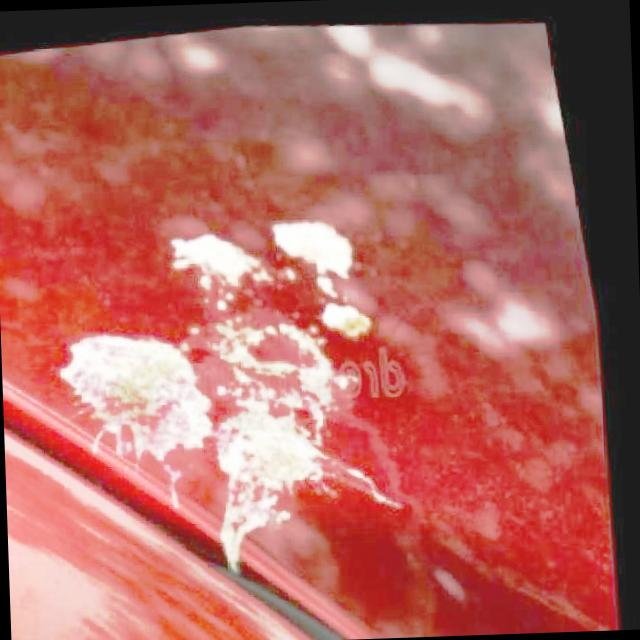Bird Poop: (62, 321, 351, 572), (274, 221, 352, 296), (173, 236, 268, 290), (323, 302, 370, 336)
